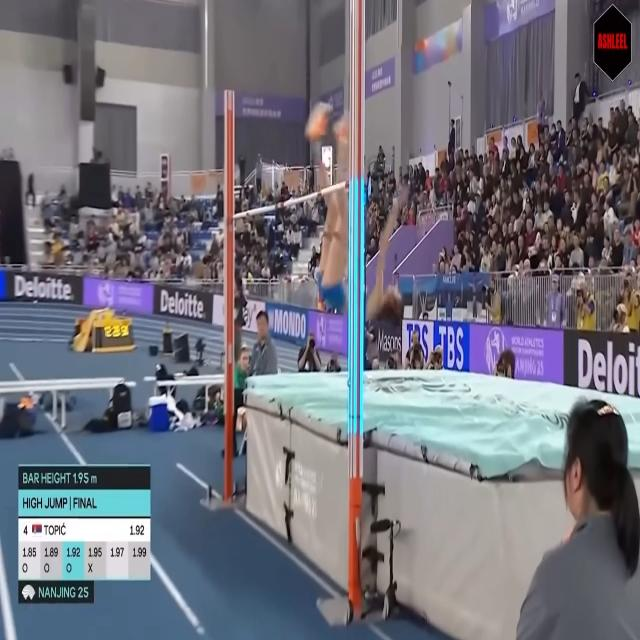land: (305, 100, 410, 328)
